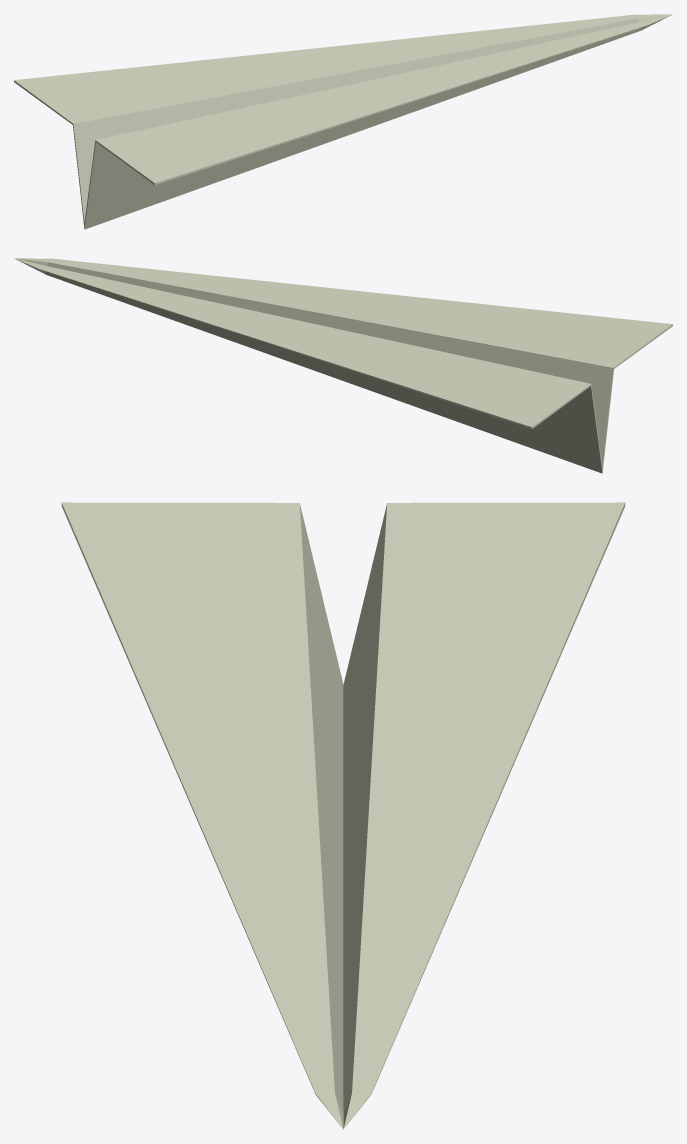
Rendered from Avião de papel.fbx.
The picture shows the model from 3 angles, top to bottom: view 1: azimuth 30°, elevation 25°; view 2: azimuth 150°, elevation 25°; view 3: azimuth 270°, elevation 25°; orthographic projection. The views are drawn at different scales.
Visible parts, largest first — view 1: Plane; view 2: Plane; view 3: Plane.
Part boxes in pixels (box(x1,y1,x2,y2)): Plane: box(14, 14, 672, 229); Plane: box(14, 258, 672, 473); Plane: box(61, 502, 625, 1129).
Bounding box in the file's own units: 647 × 103 × 268.
